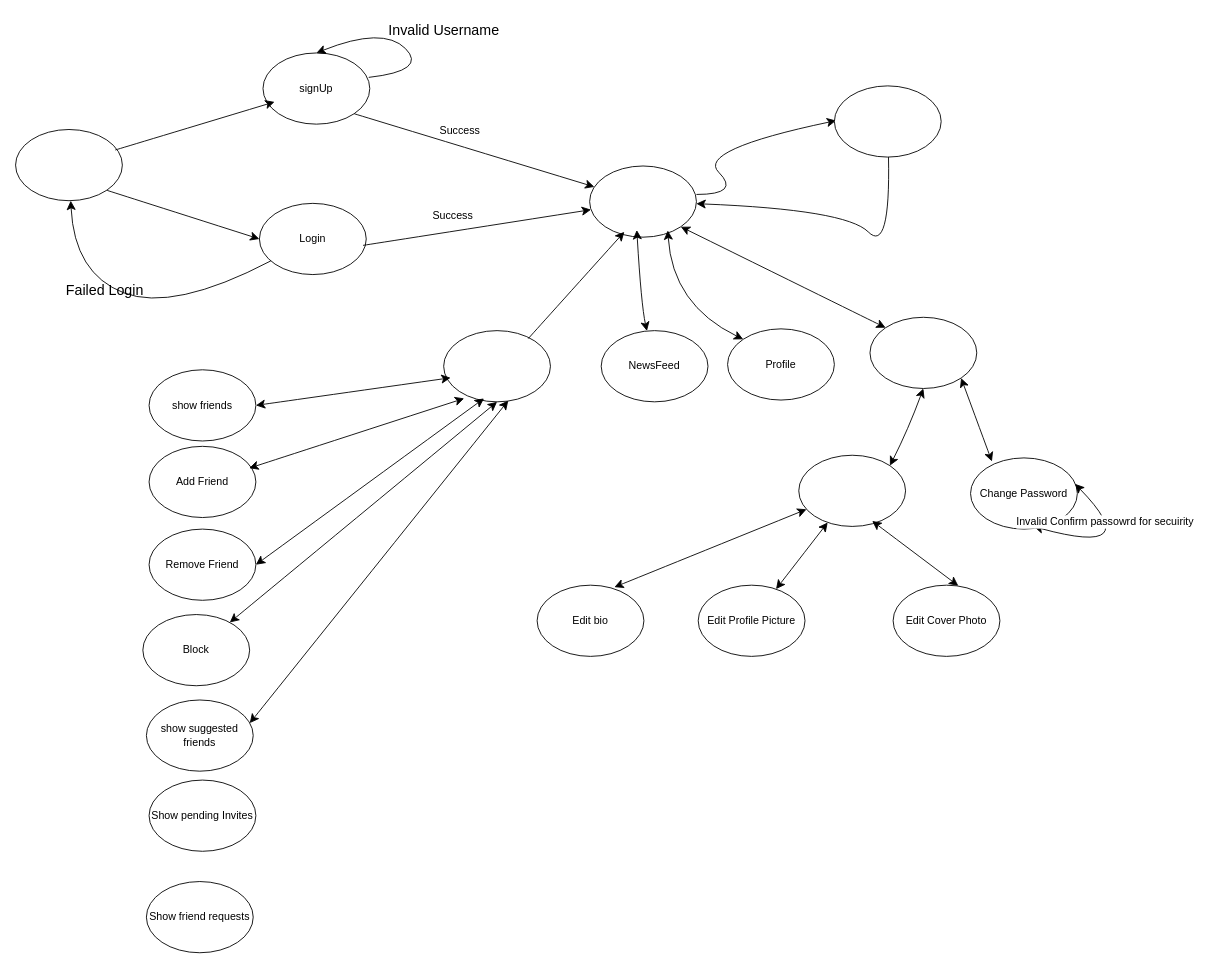
Image size: 1209x968. Some labels were removed from this diagram. The shapes that lost their labels are listed below. From the top down, each one's box as (x1, y1, x2, y2) in pixels, then its label:
(833, 85, 941, 157): Add Post
(15, 129, 122, 201): start
(443, 330, 550, 402): Friends
(869, 316, 977, 388): Settings
(798, 454, 906, 526): Edit Profile
